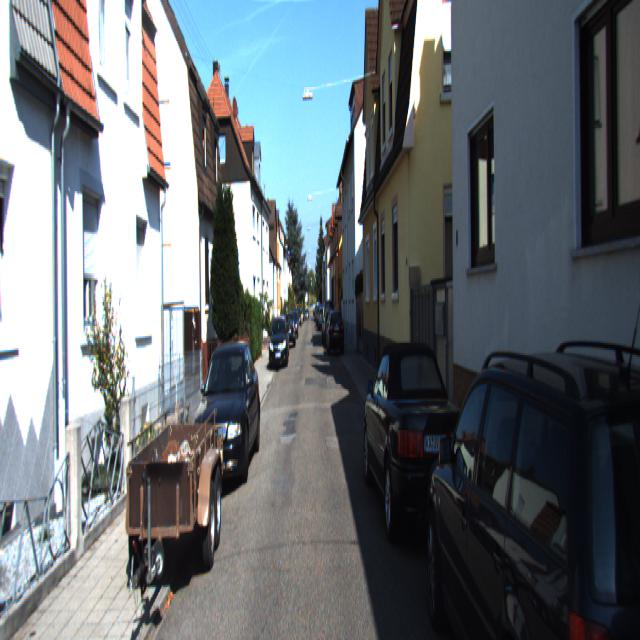Car: (423, 334, 640, 638), (361, 324, 470, 560), (128, 410, 225, 612), (190, 337, 260, 503), (270, 316, 288, 369), (328, 307, 346, 357)
